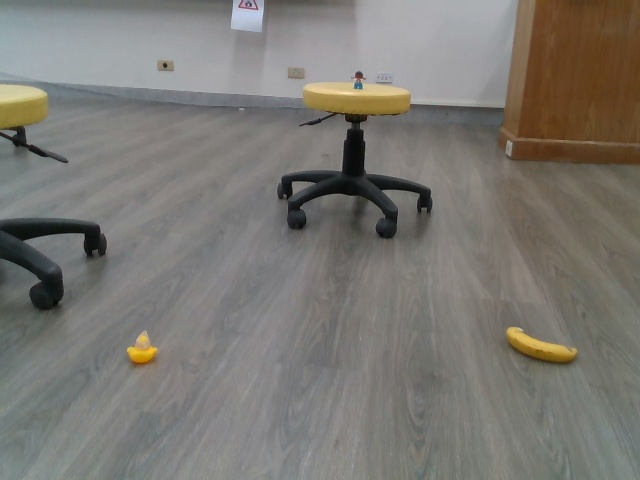banana: (501, 324, 578, 365)
duck: (124, 329, 158, 364)
